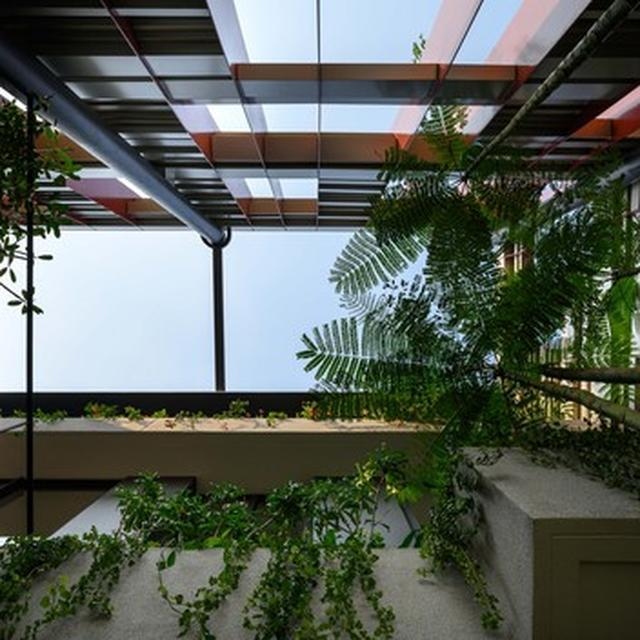building: (0, 381, 640, 640), (2, 0, 636, 230)
